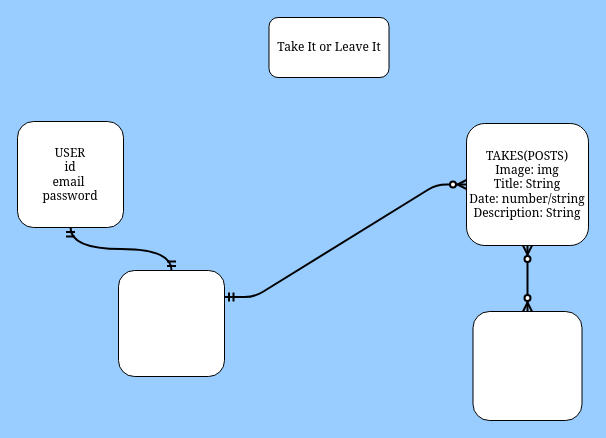
The diagram is 606 pixels wide and 438 high, and some of its shapes have lost their labels. Here are the shapes that lost their labels. From the top down, the centre of each, then its label:
At (171,323): "PROFILE userId username".
At (527,365): "COMMENTS profileId Type: String".
